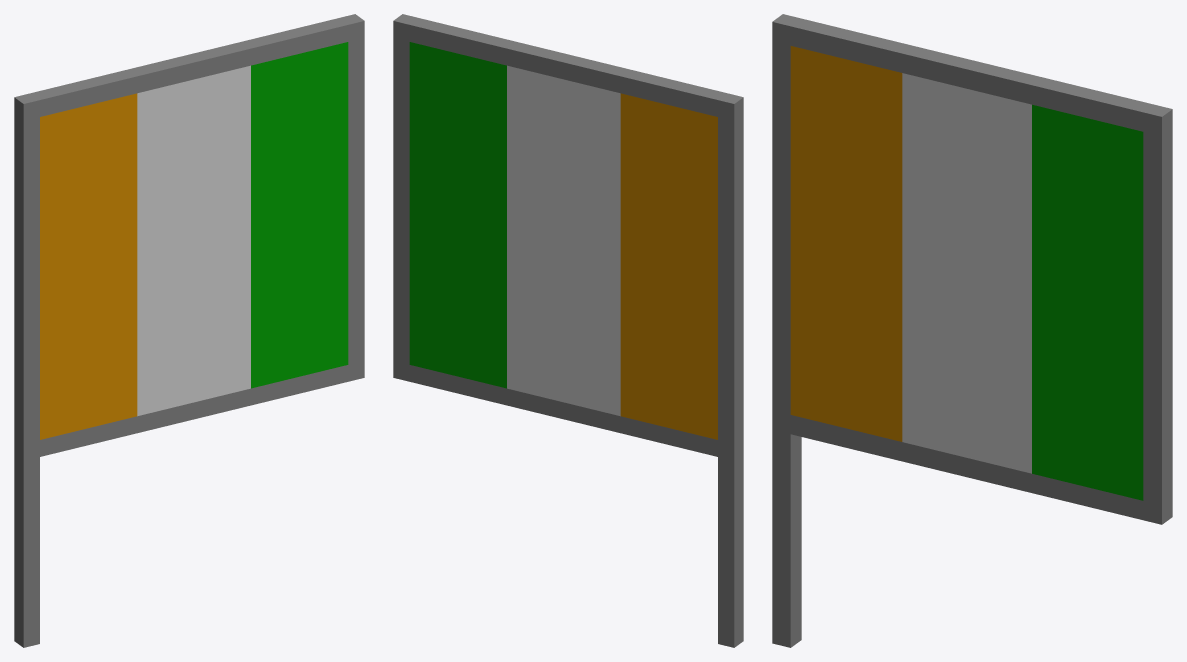
3 views of the same model, side by side, from view 1: azimuth 30°, elevation 25°; view 2: azimuth 150°, elevation 25°; view 3: azimuth 330°, elevation 25° (orthographic). The views are drawn at different scales.
Bounding box in the file's own units: 1.05 × 1.6 × 0.05.
